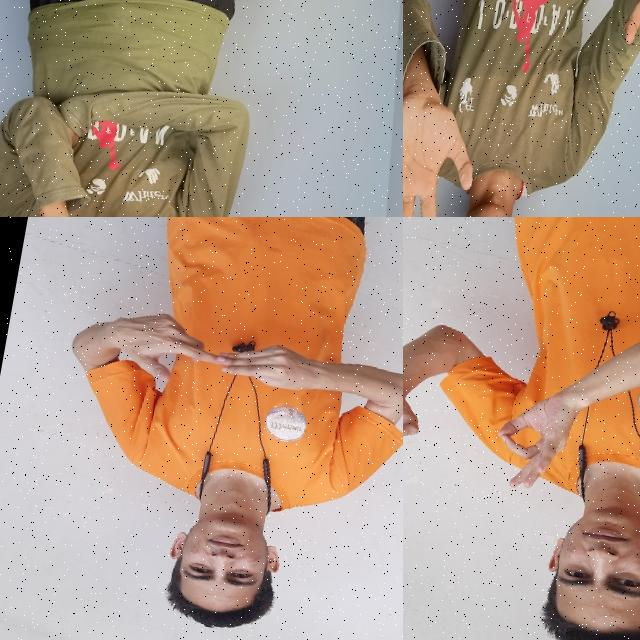Five Fathers: (102, 296, 344, 420)
Moutza: (403, 68, 495, 217)
Okay: (480, 368, 594, 502), (403, 349, 432, 500)
